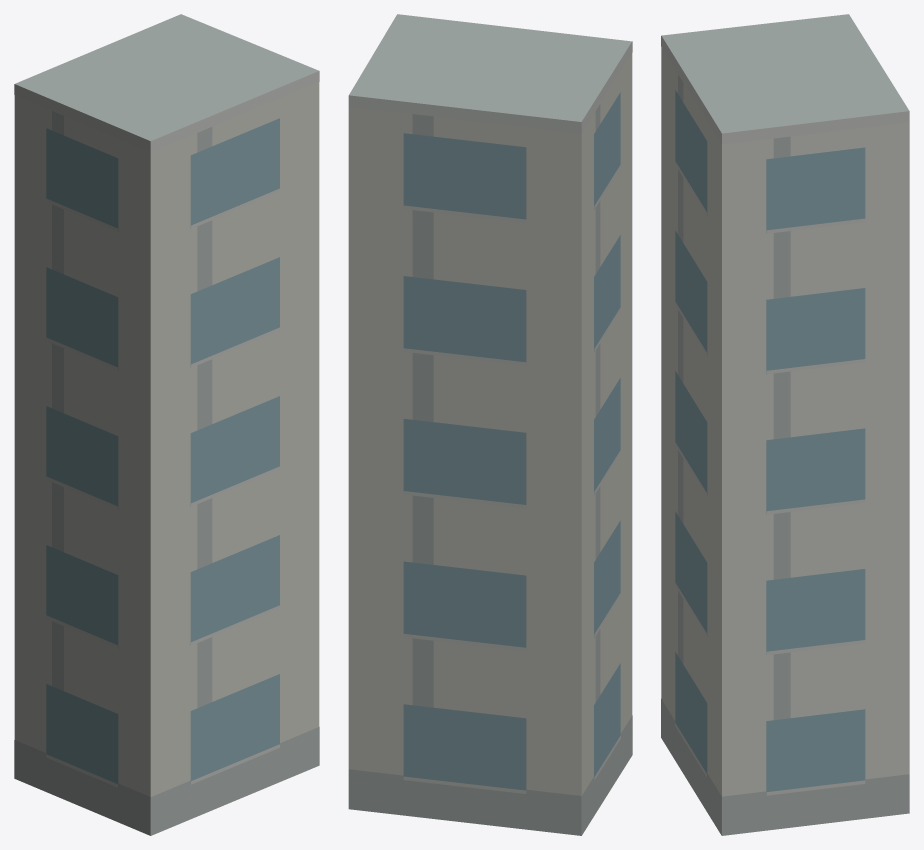
File: survey-upis-32829379.glb
3 renders of one model, left to right at view 1: azimuth 30°, elevation 25°; view 2: azimuth 150°, elevation 25°; view 3: azimuth 270°, elevation 25°, orthographic. The views are drawn at different scales.
Parts seen in each view (by area): view 1: survey-upis-32829379.tmp; view 2: survey-upis-32829379.tmp; view 3: survey-upis-32829379.tmp.
Part boxes in pixels (x1,y1,x2,y2): survey-upis-32829379.tmp: [14, 14, 319, 835]; survey-upis-32829379.tmp: [348, 14, 632, 835]; survey-upis-32829379.tmp: [661, 14, 909, 835].
Bounding box in the file's own units: 5.57 × 15.25 × 4.9.
